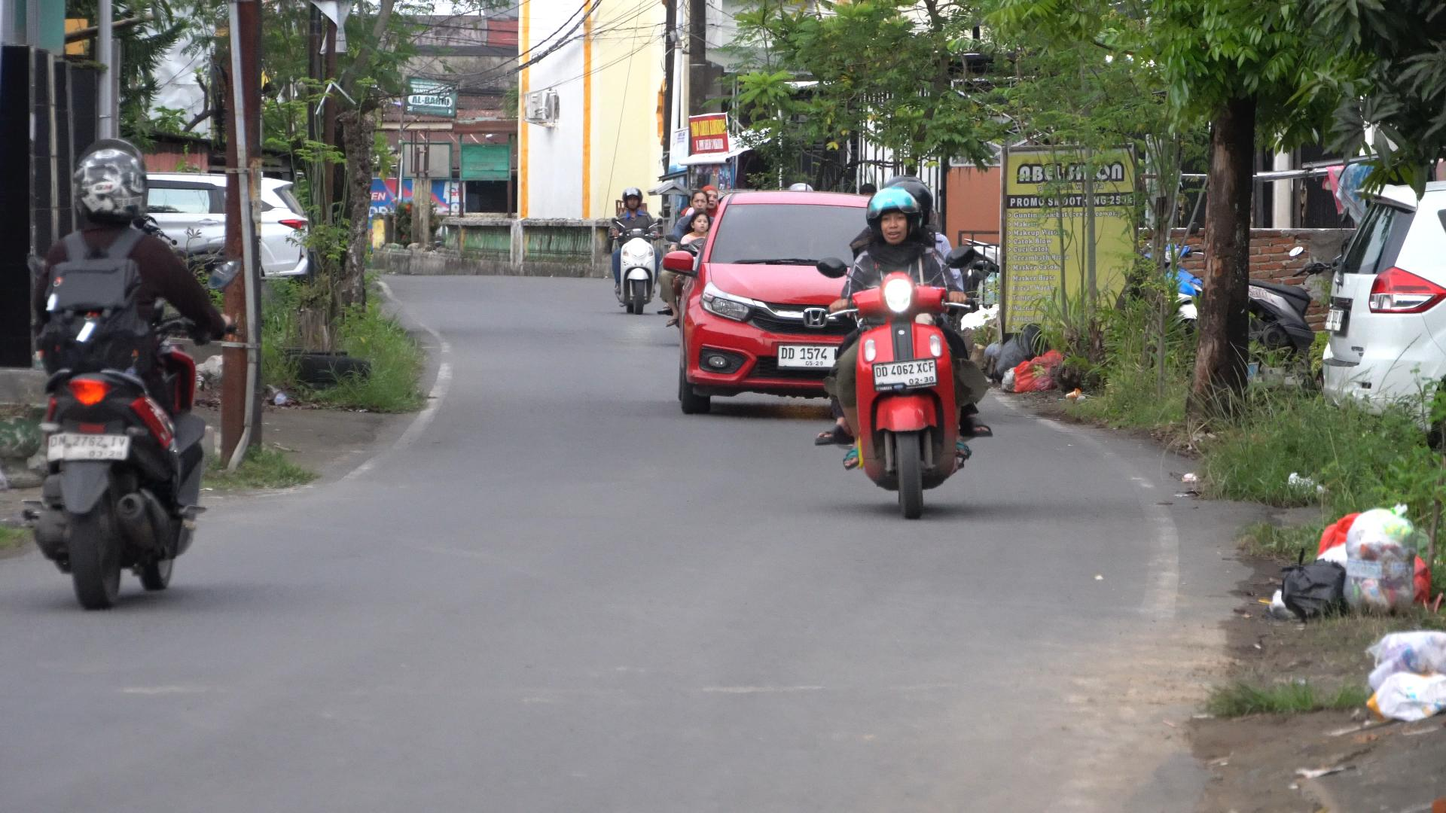number-plate: (872, 357, 939, 394)
